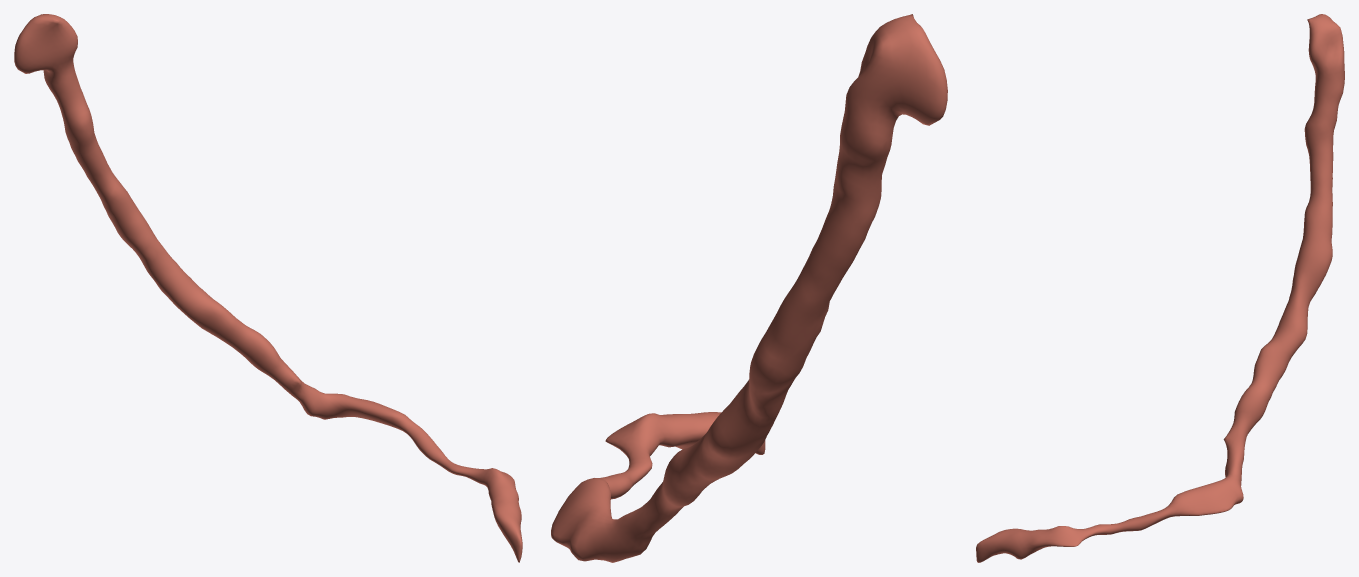
The model's file is chorda-tympani.glb.
3 renders of one model, left to right at view 1: azimuth 30°, elevation 25°; view 2: azimuth 150°, elevation 25°; view 3: azimuth 270°, elevation 25°, orthographic. The views are drawn at different scales.
Visible parts, largest first — view 1: 07_Chorda Tympani.ply; view 2: 07_Chorda Tympani.ply; view 3: 07_Chorda Tympani.ply.
Boxes of the visible parts, bbox=[...] form: 07_Chorda Tympani.ply: bbox=[14, 14, 522, 562]; 07_Chorda Tympani.ply: bbox=[551, 14, 947, 562]; 07_Chorda Tympani.ply: bbox=[976, 14, 1344, 562].
Bounding box in the file's own units: 8.88 × 11.49 × 9.06.
